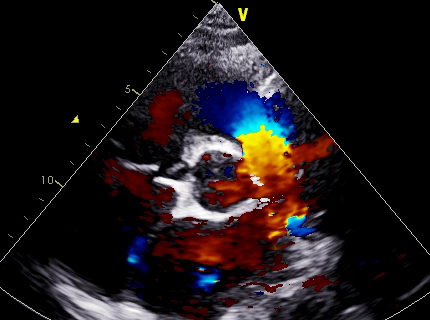PR: (240, 142, 323, 251)
